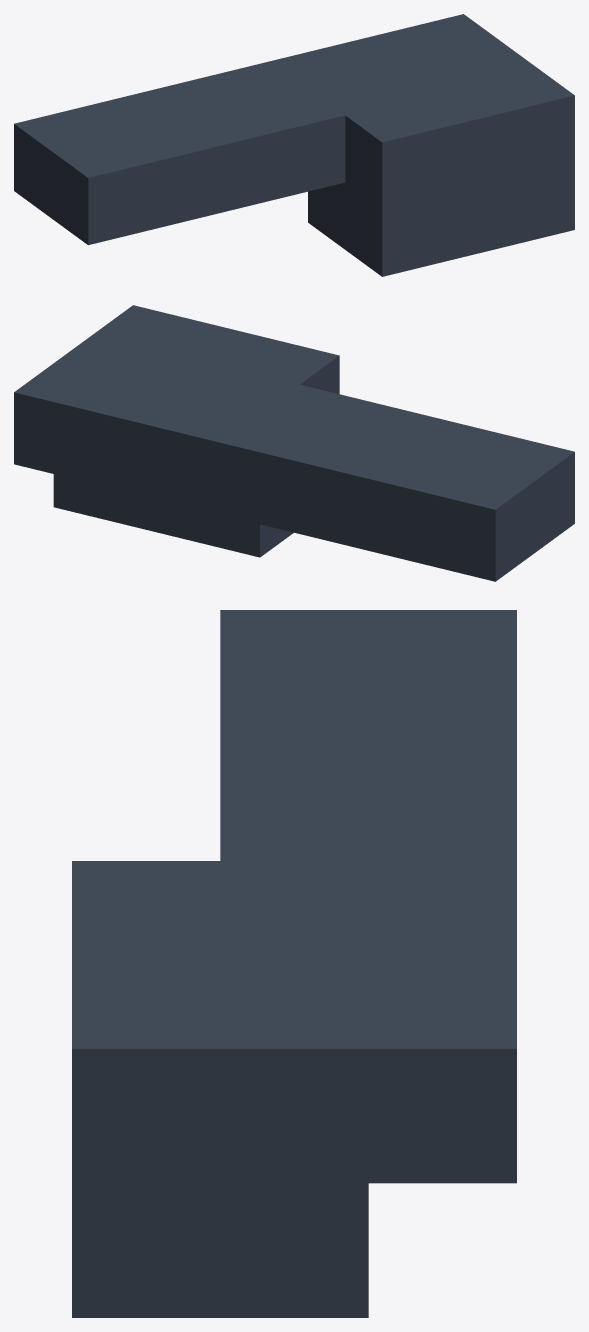
Rendered from gauntlet_police_armoury_key.glb.
3 renders of one model, top to bottom at view 1: azimuth 30°, elevation 25°; view 2: azimuth 150°, elevation 25°; view 3: azimuth 270°, elevation 25°, orthographic. The views are drawn at different scales.
Parts seen in each view (by area): view 1: gauntlet_police_armoury_key:key; view 2: gauntlet_police_armoury_key:key; view 3: gauntlet_police_armoury_key:key.
Part boxes in pixels (x1,y1,x2,y2): gauntlet_police_armoury_key:key: (14,14,574,276); gauntlet_police_armoury_key:key: (14,305,574,581); gauntlet_police_armoury_key:key: (72,610,516,1317).
Size of the model in its own units: 0.07 by 0.02 by 0.03.
